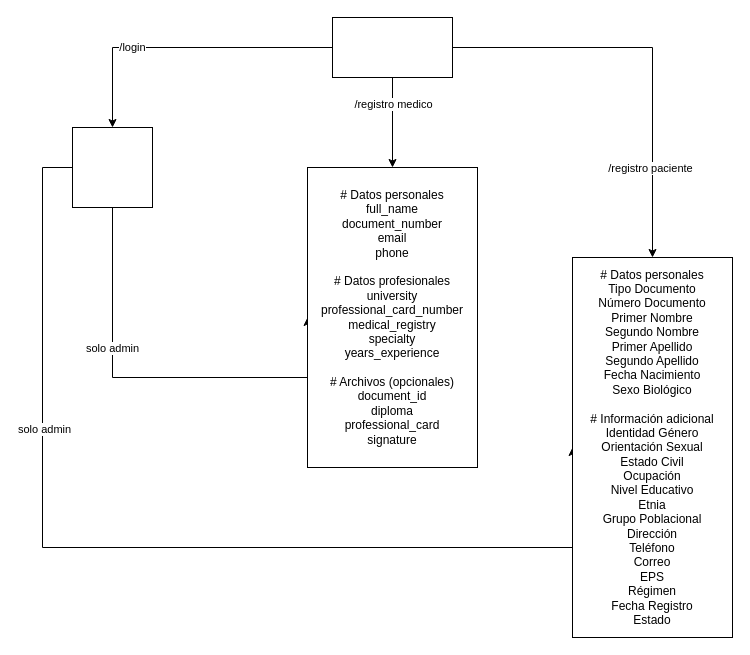
Some shapes in this 750 by 655 pixel diagram are drawn without their labels. Here are the shapes that lost their labels. From the top down, the box of each, then its label:
(332, 16, 452, 78): API
(72, 126, 152, 208): usuario contraseña
